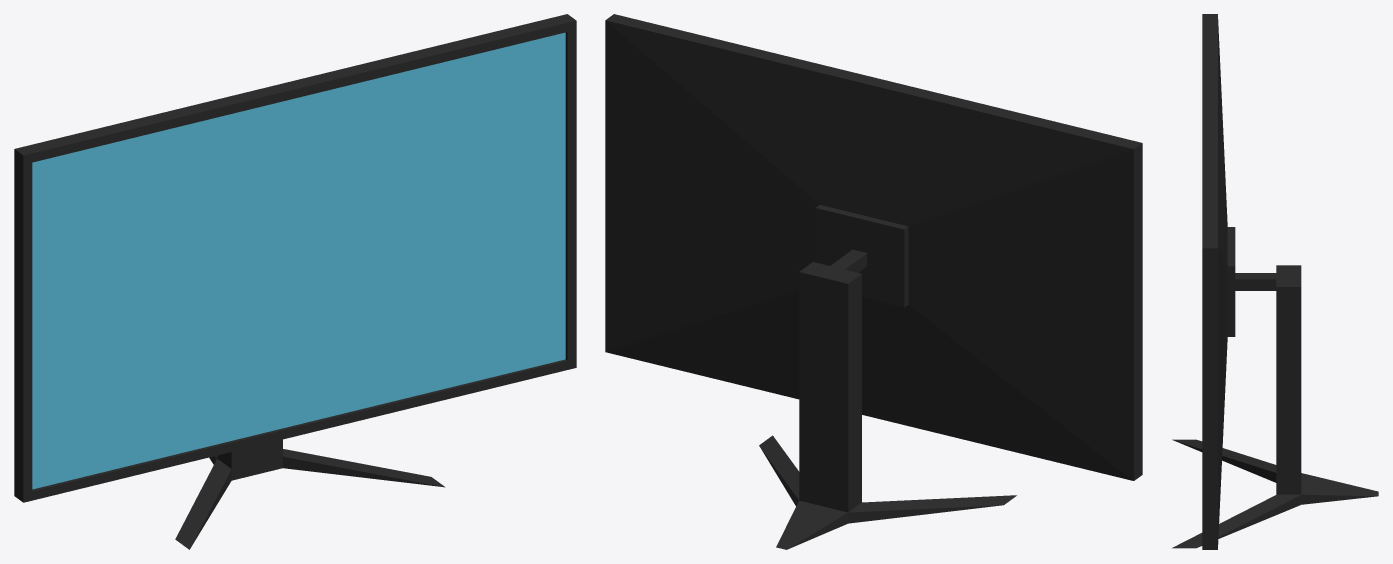
The model's file is Monitor.fbx.
3 renders of one model, left to right at view 1: azimuth 30°, elevation 25°; view 2: azimuth 150°, elevation 25°; view 3: azimuth 270°, elevation 25°, orthographic. The views are drawn at different scales.
Visible parts, largest first — view 1: Monitor; view 2: Monitor; view 3: Monitor.
Boxes of the visible parts, bbox=[...] form: Monitor: bbox=[14, 14, 576, 549]; Monitor: bbox=[605, 14, 1142, 549]; Monitor: bbox=[1172, 14, 1378, 549].
Bounding box in the file's own units: 100 × 72.16 × 37.34.
Materials: 1 (1 with a texture image).
